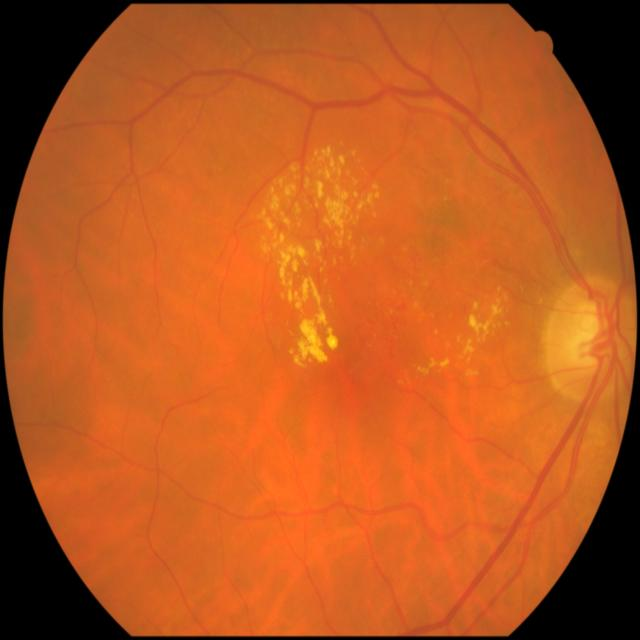OC: (570, 306, 610, 369)
OD: (544, 278, 638, 401)
